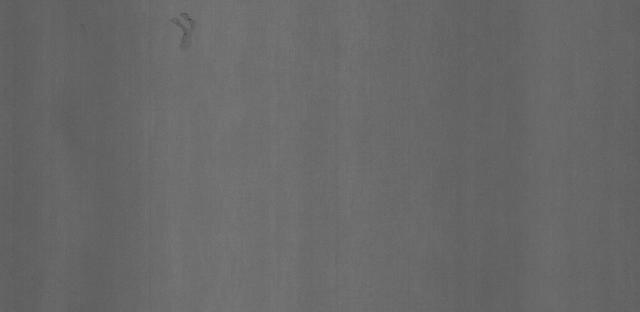water_spot: (165, 9, 212, 52)
